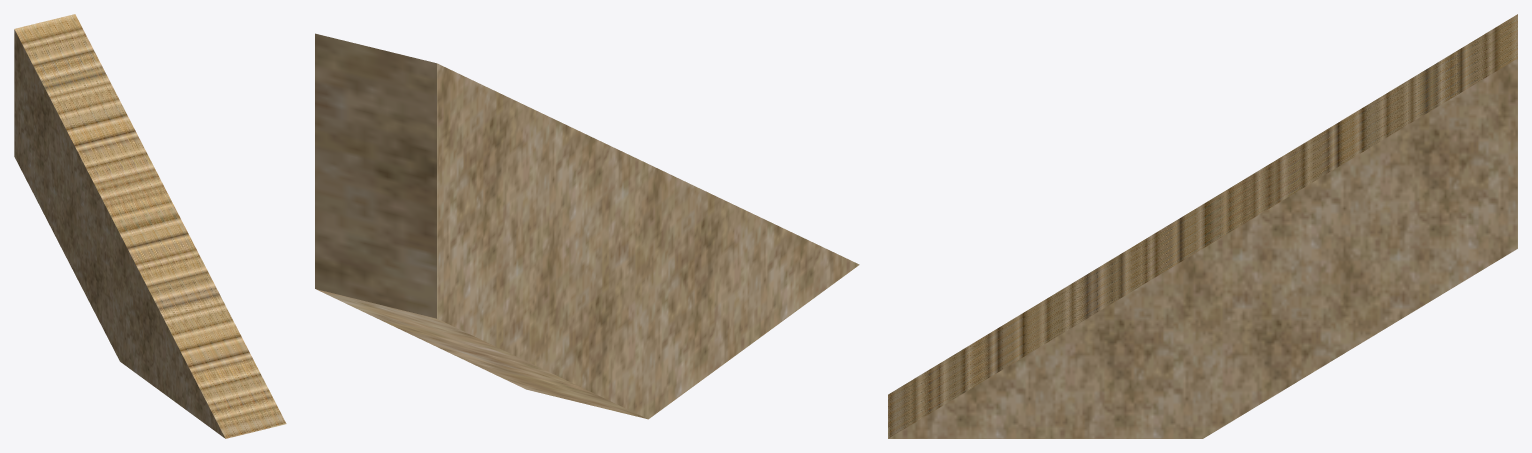
Rendered from thm_tato_imprv_stair_large_s01_l2.fbx.
3 renders of one model, left to right at view 1: azimuth 30°, elevation 25°; view 2: azimuth 150°, elevation 25°; view 3: azimuth 270°, elevation 25°, orthographic. The views are drawn at different scales.
Visible parts, largest first — view 1: mesh_node; view 2: mesh_node; view 3: mesh_node.
Part boxes in pixels (<box>): mesh_node: <box>14,14,286,438</box>; mesh_node: <box>315,33,859,419</box>; mesh_node: <box>888,14,1517,438</box>.
Size of the model in its own units: 4 by 16 by 24.
